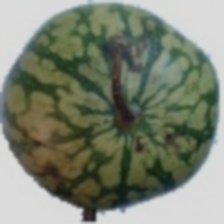watermelon: (32, 22, 195, 193)
